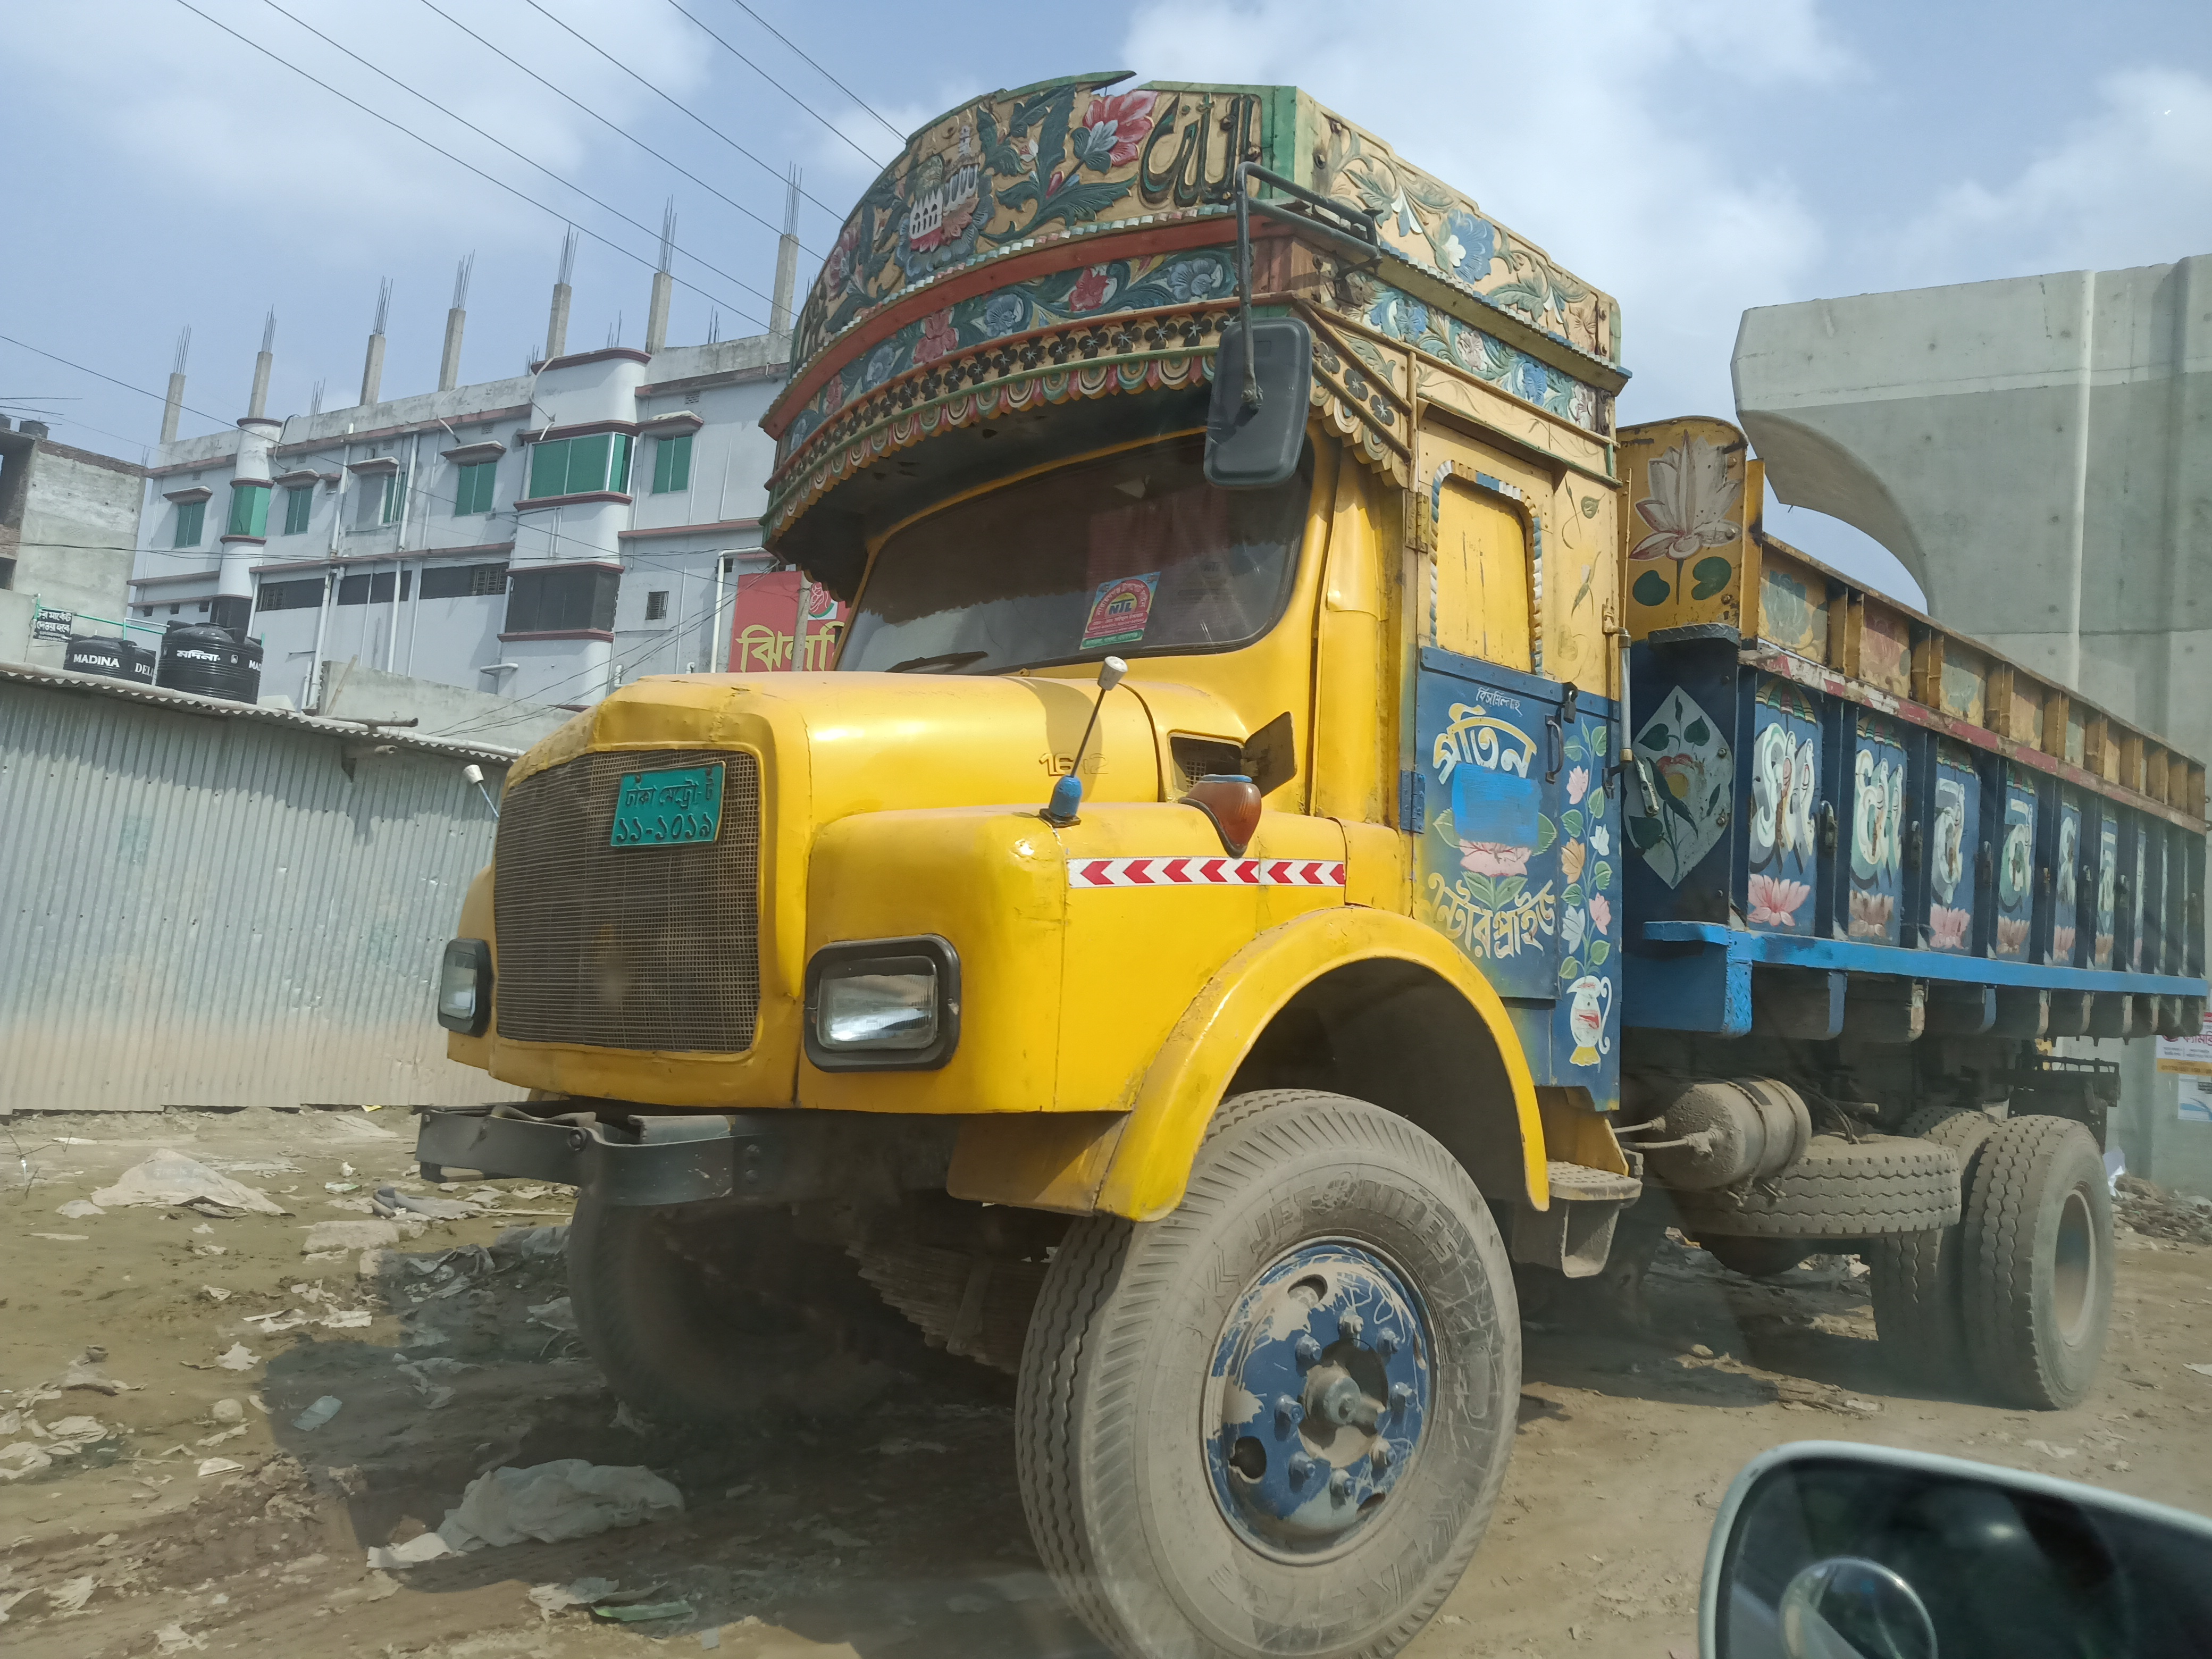truck: (401, 91, 2209, 1631)
